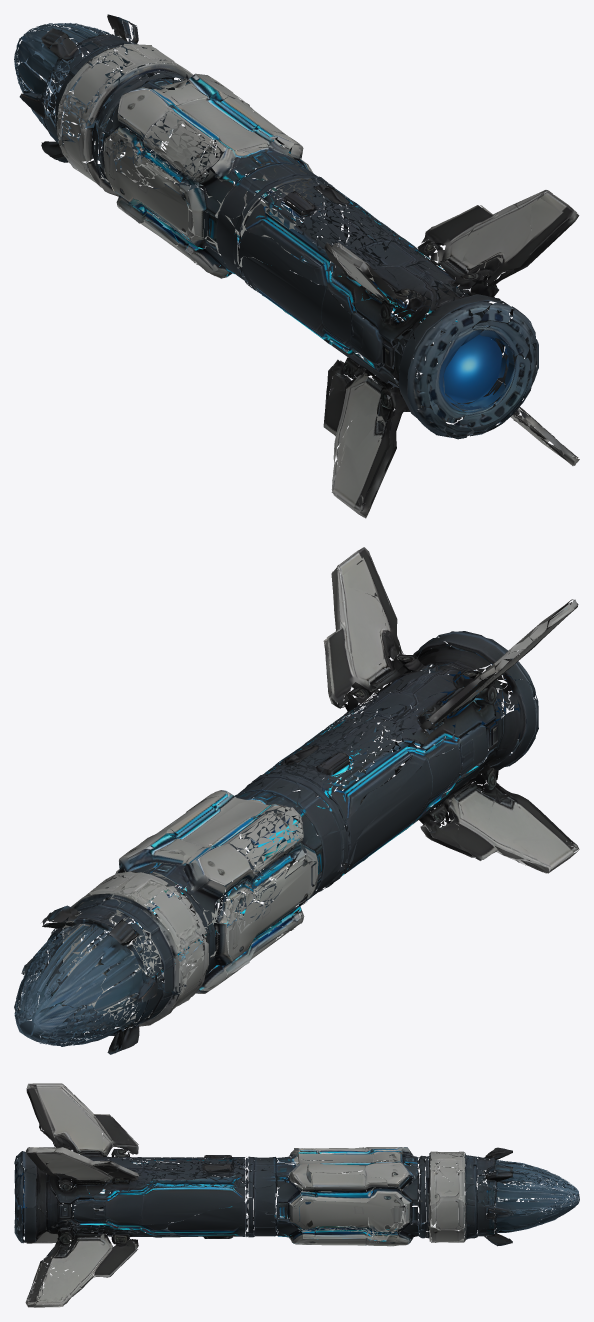
File: ec120_missile.glb
3 renders of one model, top to bottom at view 1: azimuth 30°, elevation 25°; view 2: azimuth 150°, elevation 25°; view 3: azimuth 270°, elevation 25°, orthographic. The views are drawn at different scales.
Parts seen in each view (by area): view 1: node_0; view 2: node_0; view 3: node_0.
Boxes of the visible parts, x1=… form: node_0: x1=14, y1=14, x2=579, y2=518; node_0: x1=14, y1=547, x2=579, y2=1054; node_0: x1=14, y1=1083, x2=579, y2=1307.
Bounding box in the file's own units: 0.2255 × 0.2507 × 0.8009.
1 material, 1 textured.
